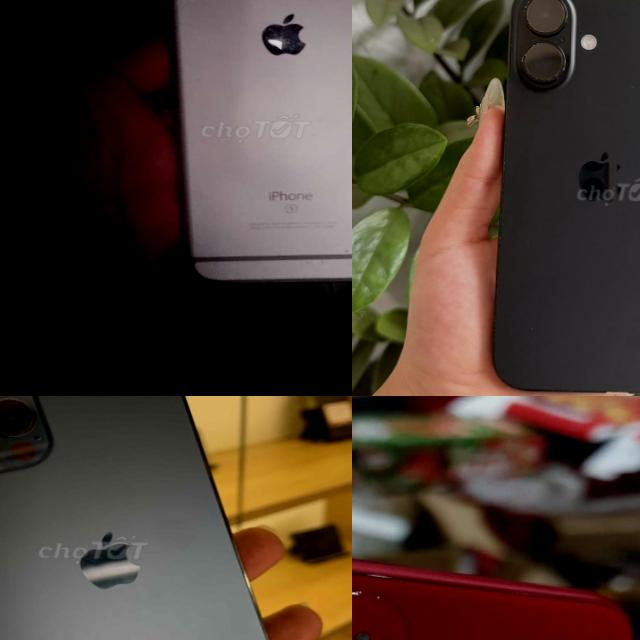scratch: (518, 40, 570, 90), (513, 0, 571, 38), (208, 257, 258, 286), (334, 225, 352, 274)
